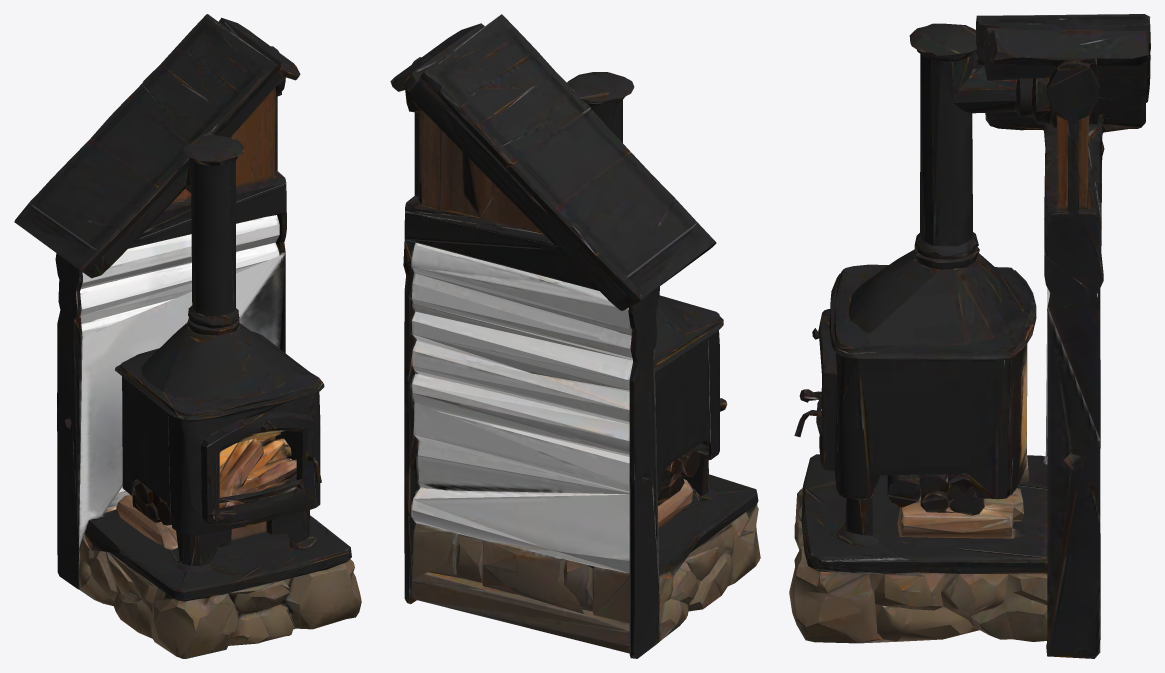
Rendered from fireplace_stove.glb.
3 views of the same model, side by side, from view 1: azimuth 30°, elevation 25°; view 2: azimuth 150°, elevation 25°; view 3: azimuth 270°, elevation 25° (orthographic). The views are drawn at different scales.
Size of the model in its own units: 0.9135 by 1.9 by 1.
Materials: 1 (1 with a texture image).
